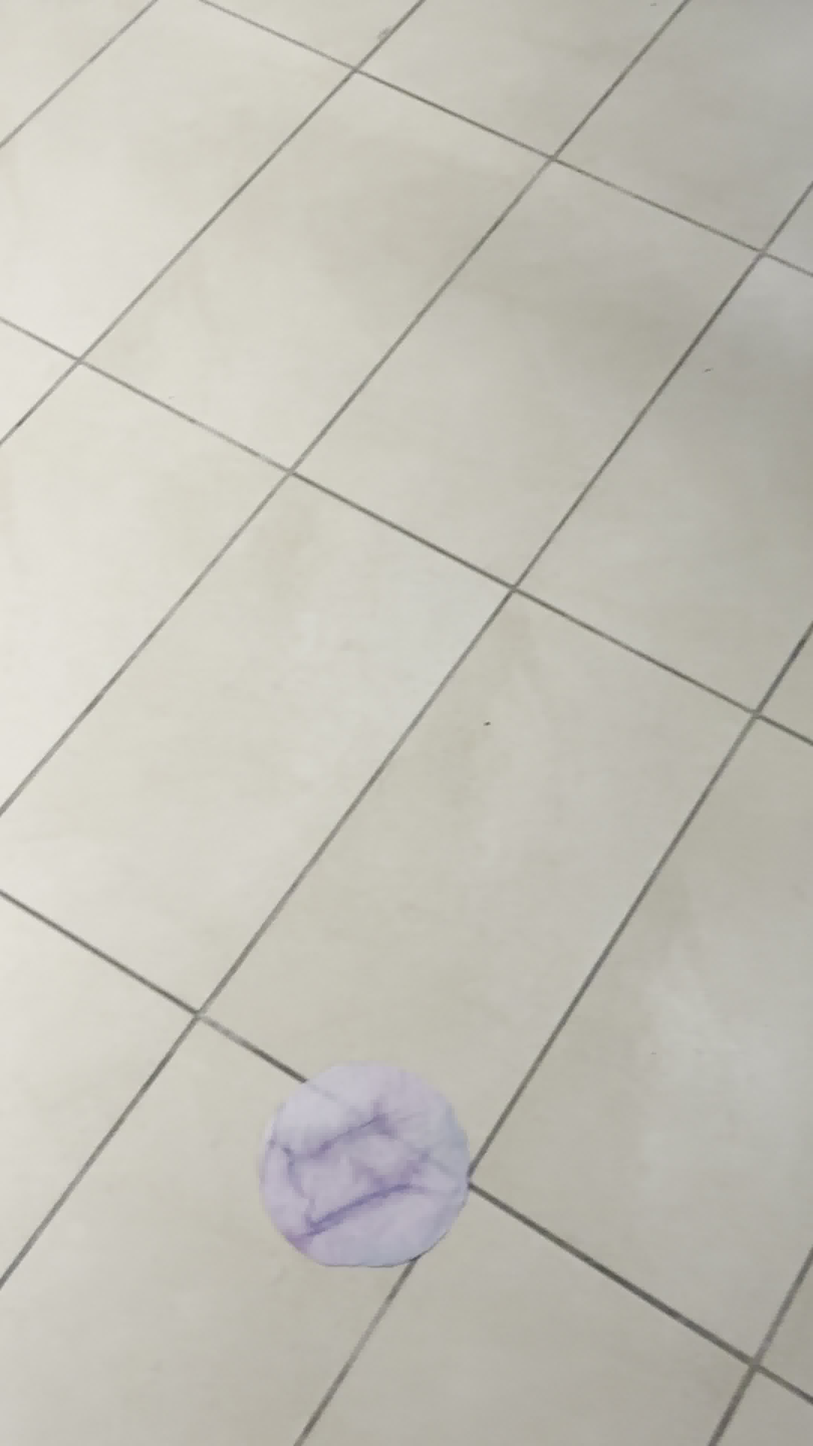Target: (255, 1072, 470, 1266)
